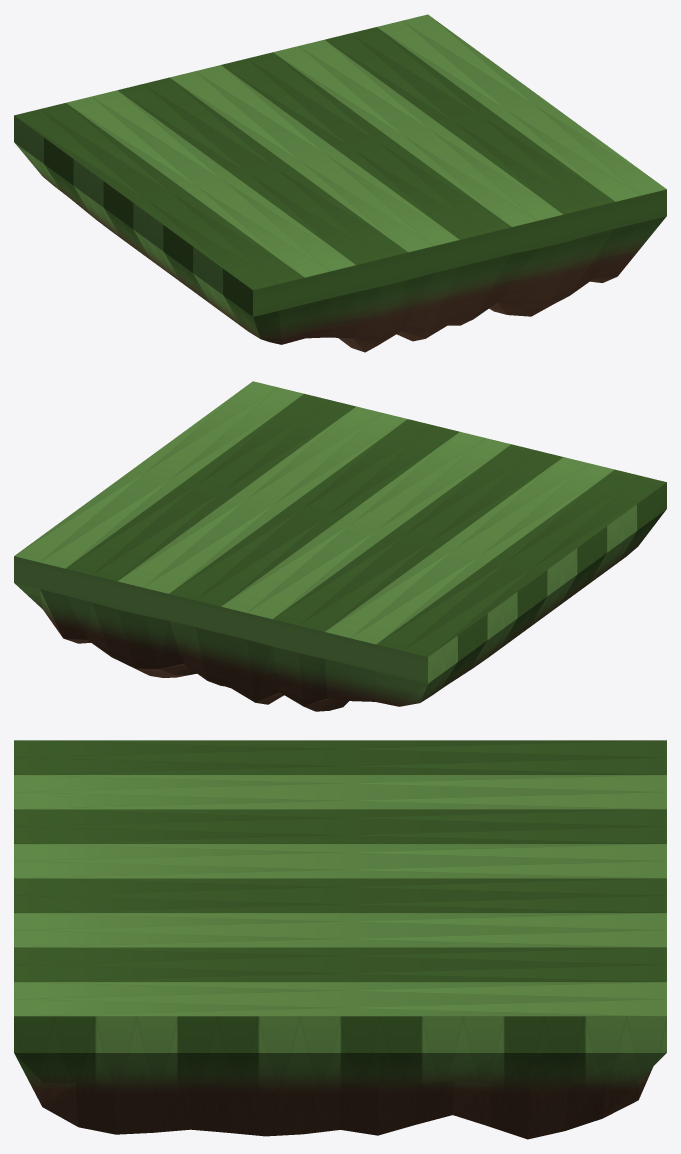
File: FloatingGroundFourth.FBX
3 renders of one model, top to bottom at view 1: azimuth 30°, elevation 25°; view 2: azimuth 150°, elevation 25°; view 3: azimuth 270°, elevation 25°, orthographic. The views are drawn at different scales.
Visible parts, largest first — view 1: Object001, Box001; view 2: Object001, Box001; view 3: Object001, Box001.
Part boxes in pixels (<box>): Object001: <box>14,14,666,290</box>; Box001: <box>14,115,666,352</box>; Object001: <box>14,381,666,656</box>; Box001: <box>14,482,666,711</box>; Object001: <box>14,740,666,1016</box>; Box001: <box>14,1016,666,1139</box>.
Size of the model in its own units: 160 by 160 by 48.49.
Materials: 2 (2 with a texture image).
